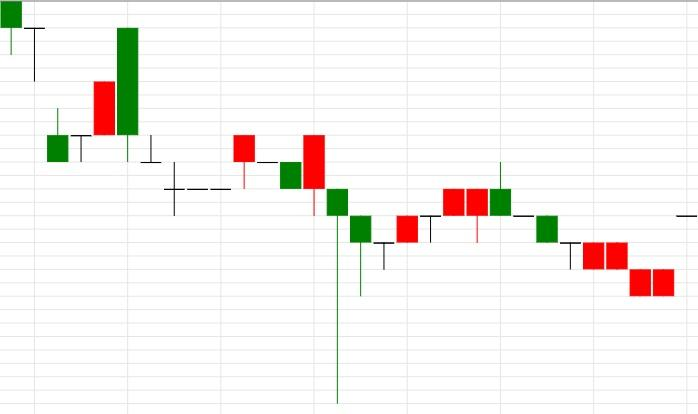bearish_engulfing_fall: (46, 27, 139, 163)
hammer_rise: (232, 134, 349, 404)
morning_star_rise: (232, 133, 419, 403)
